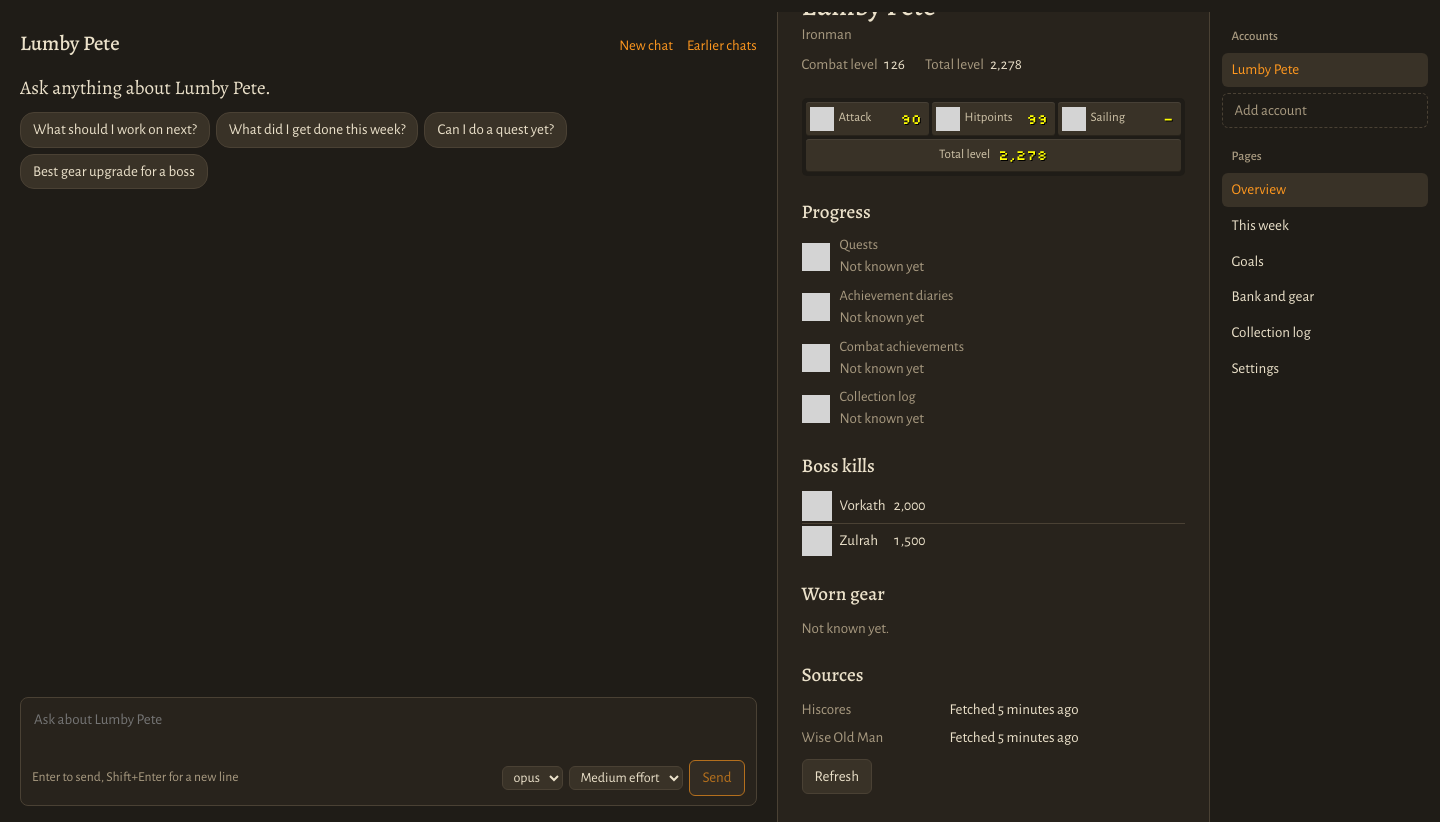
Test: Overview › shows the new name as soon as the rename is made, while Refresh fetches under it
This screenshot has width=1440, height=822.
(page scrolled)
What coordinates should you click on to do the following:
click the button "Refresh"
I would click on:
 (837, 777)
Its box is [802, 759, 872, 794].
(page scrolled)
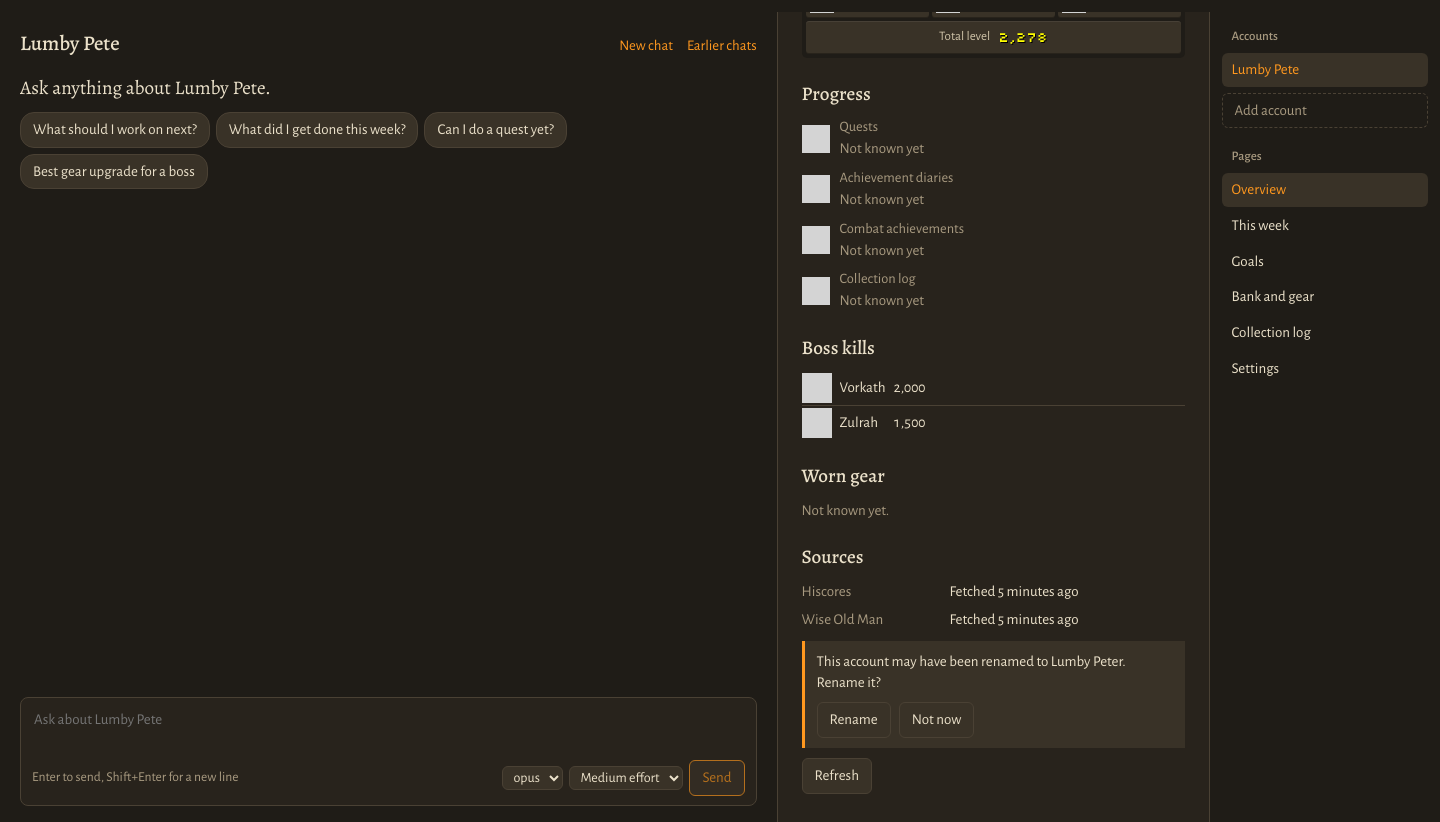
Check: the text "This account may have been renamed to Lumby Peter. Rename it?" is shown, box [817, 651, 1173, 694]
What coordinates should you click on to do the following:
click the button "Rename"
I would click on:
 (854, 720)
Its box is [817, 702, 891, 738].
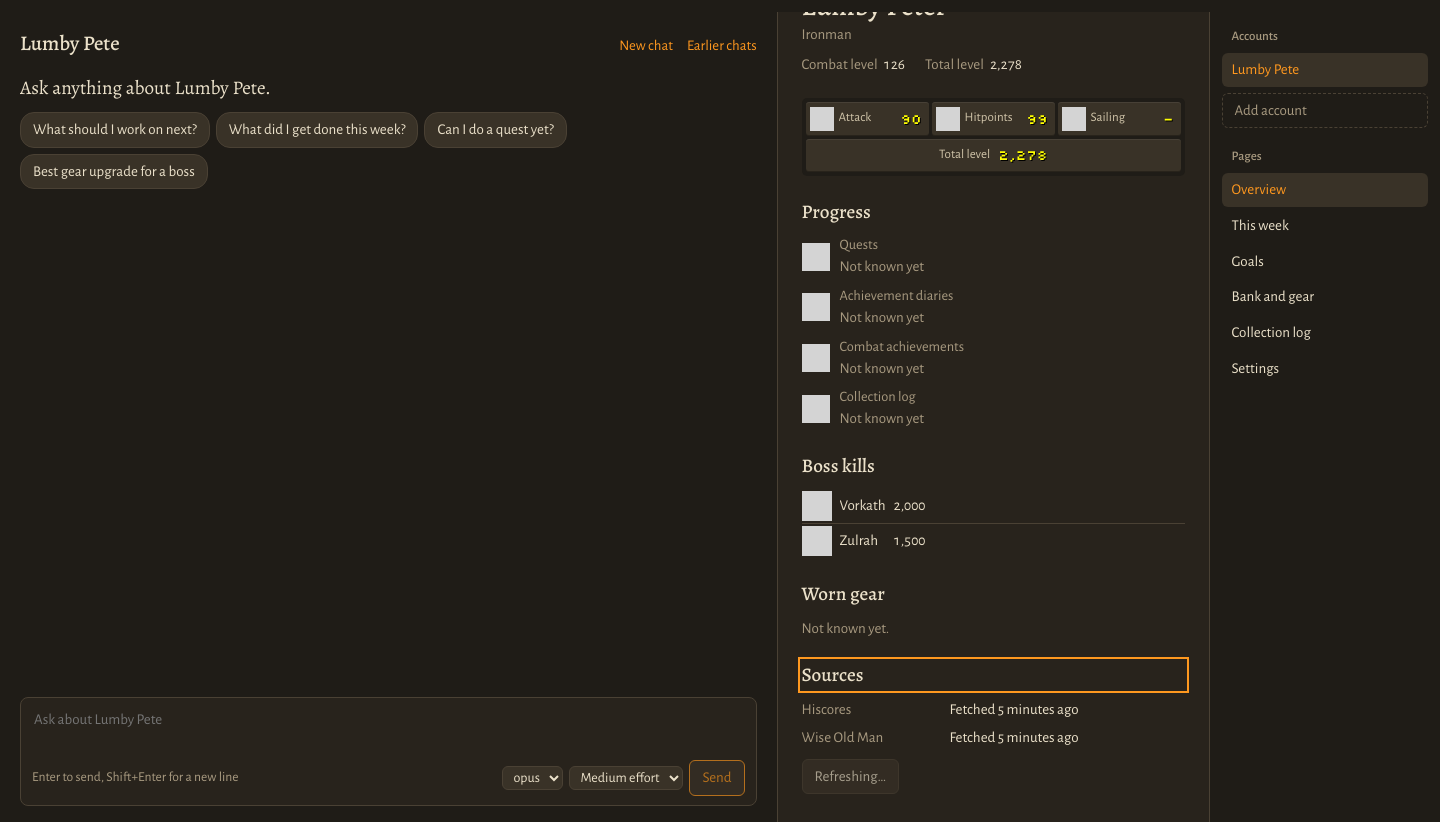
Check: the button "Refreshing…" is shown, box [802, 759, 899, 794]
